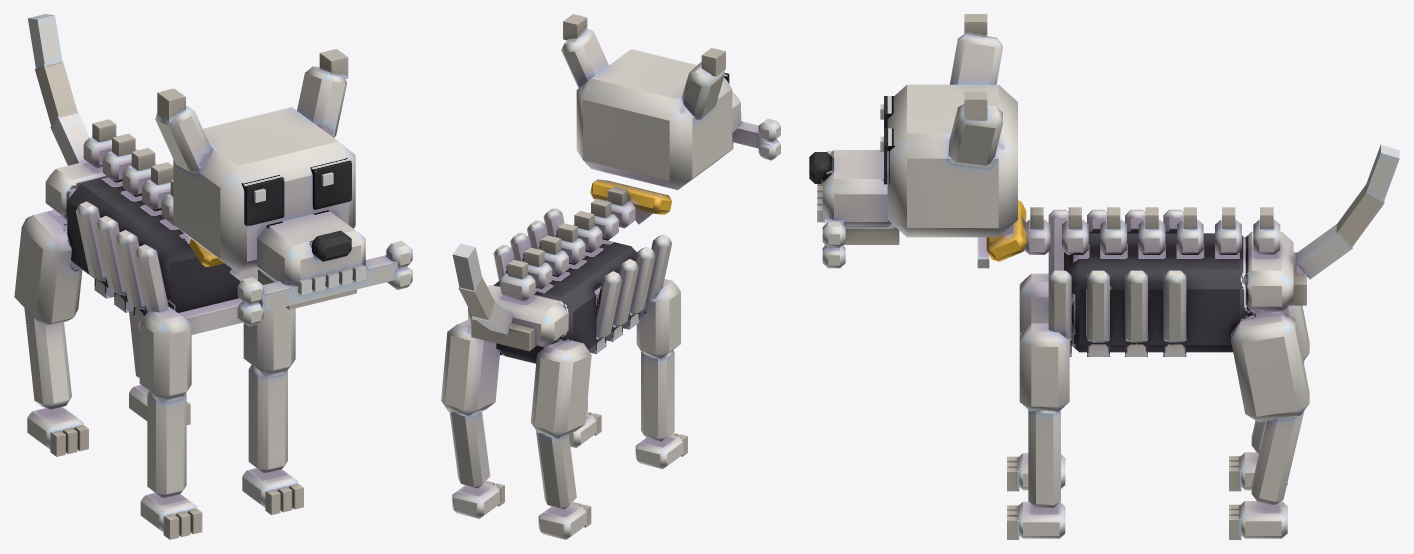
Rendered from ChienSquelette_Rig.fbx.
The picture shows the model from 3 angles, left to right: view 1: azimuth 30°, elevation 25°; view 2: azimuth 150°, elevation 25°; view 3: azimuth 270°, elevation 25°; orthographic projection. The views are drawn at different scales.
Visible parts, largest first — view 1: Head, Body, LegBR, LegFR, LegFL, Tail, LegBL; view 2: Body, Head, LegBR, LegBL, LegFR, Tail, LegFL; view 3: Body, Head, LegBL, LegFL, Tail, LegFR, LegBR.
Boxes of the visible parts, box(x1,y1,x2,y2) form: Head: box(155, 49, 412, 326); Body: box(45, 119, 259, 334); LegBR: box(14, 210, 88, 456); LegFR: box(139, 306, 202, 539); LegFL: box(242, 307, 303, 514); Tail: box(28, 14, 89, 165); LegBL: box(129, 311, 190, 425); Body: box(468, 179, 672, 363); Head: box(561, 14, 780, 189); LegBR: box(531, 340, 591, 539); LegBL: box(441, 320, 504, 518); LegFR: box(635, 279, 687, 468); Tail: box(452, 243, 513, 334); LegFL: box(569, 397, 601, 447); Body: box(977, 200, 1306, 356); Head: box(809, 14, 1017, 268); LegBL: box(1229, 311, 1309, 539); LegFL: box(1007, 323, 1069, 539); Tail: box(1295, 144, 1399, 279); LegFR: box(1007, 273, 1065, 491); LegBR: box(1229, 305, 1309, 491).
Bounding box in the file's own units: 2.45 × 6 × 7.12.
Materials: 1 (1 with a texture image).
